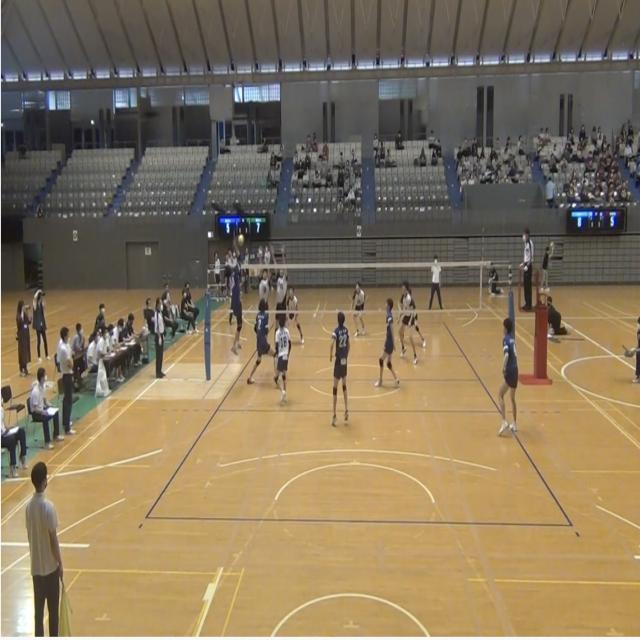spike: (222, 234, 250, 363)
